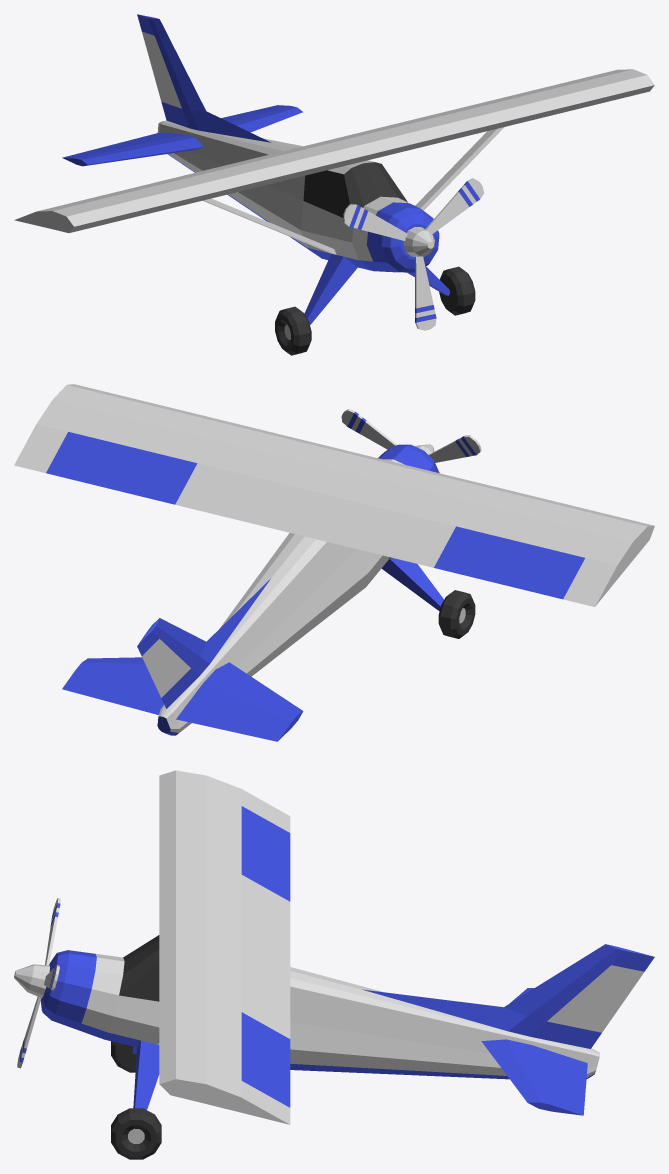
Rendered from 027-airplane-rec.glb.
The picture shows the model from 3 angles, top to bottom: view 1: azimuth 30°, elevation 25°; view 2: azimuth 150°, elevation 25°; view 3: azimuth 270°, elevation 25°; orthographic projection. The views are drawn at different scales.
Parts seen in each view (by area): view 1: Plane.035, Plane, Circle.001, Circle.002, Circle.004, Circle.008, Circle.003, Plane.003, Plane.002, Plane.001, Circle.007; view 2: Plane.035, Plane, Circle.002, Circle.001, Circle.004, Circle.003, Plane.001, Plane.002; view 3: Plane.035, Plane, Circle.001, Circle.002, Circle.004, Circle.003, Circle.007.
Boxes of the visible parts, x1,y1,x2,y2 form: Plane.035: [14, 69, 654, 232]; Plane: [157, 120, 439, 272]; Circle.001: [137, 14, 271, 142]; Circle.002: [62, 105, 302, 166]; Circle.004: [275, 266, 475, 355]; Circle.008: [202, 127, 504, 254]; Circle.003: [304, 253, 449, 324]; Plane.003: [415, 256, 436, 330]; Plane.002: [425, 178, 483, 234]; Plane.001: [343, 204, 407, 240]; Circle.007: [403, 227, 434, 256]; Plane.035: [14, 384, 654, 606]; Plane: [157, 444, 439, 735]; Circle.002: [62, 657, 303, 741]; Circle.001: [137, 579, 270, 708]; Circle.004: [438, 590, 475, 638]; Circle.003: [381, 558, 443, 611]; Plane.001: [429, 435, 481, 462]; Plane.002: [341, 409, 396, 449]; Plane.035: [159, 770, 290, 1124]; Plane: [40, 935, 599, 1079]; Circle.001: [363, 944, 654, 1048]; Circle.002: [481, 988, 587, 1115]; Circle.004: [111, 1041, 161, 1159]; Circle.003: [132, 1040, 159, 1109]; Circle.007: [14, 964, 49, 998].
Bounding box in the file's own units: 8.24 × 2.35 × 7.23.
